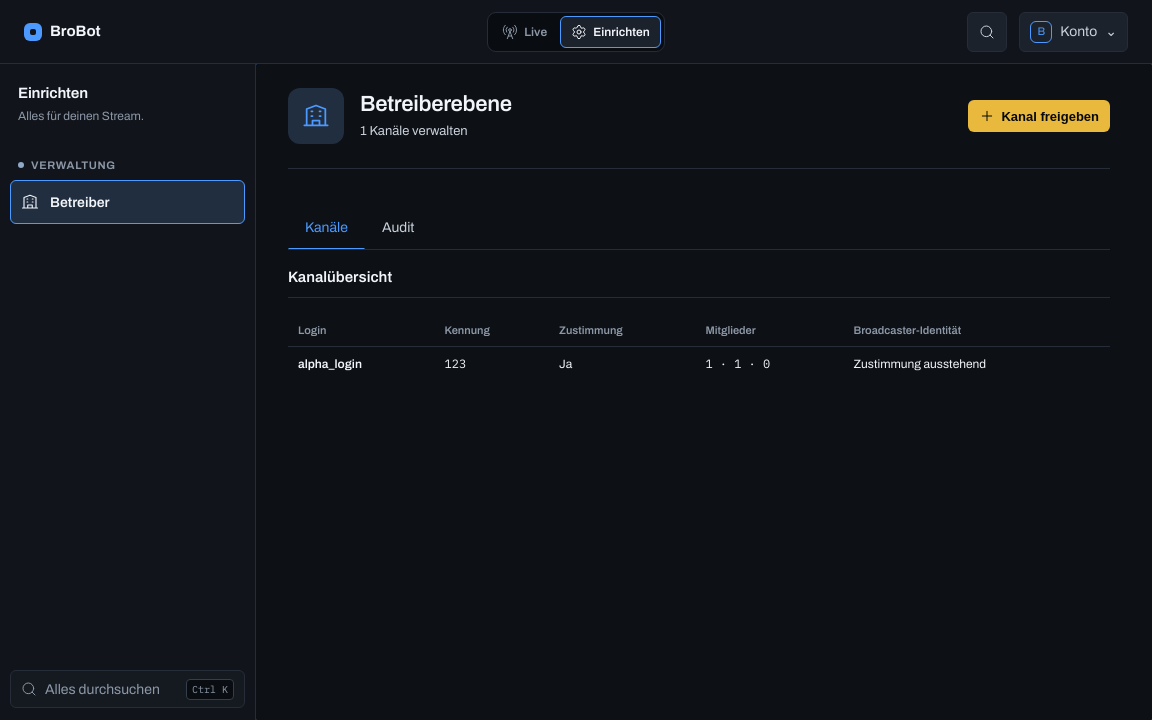
Test: Platform level › shows the display name in the platform audit log, falling back to the ID when it can't be resolved
The image size is (1152, 720).
Click the tab "Audit".
click(398, 227)  # box [365,205,432,249]
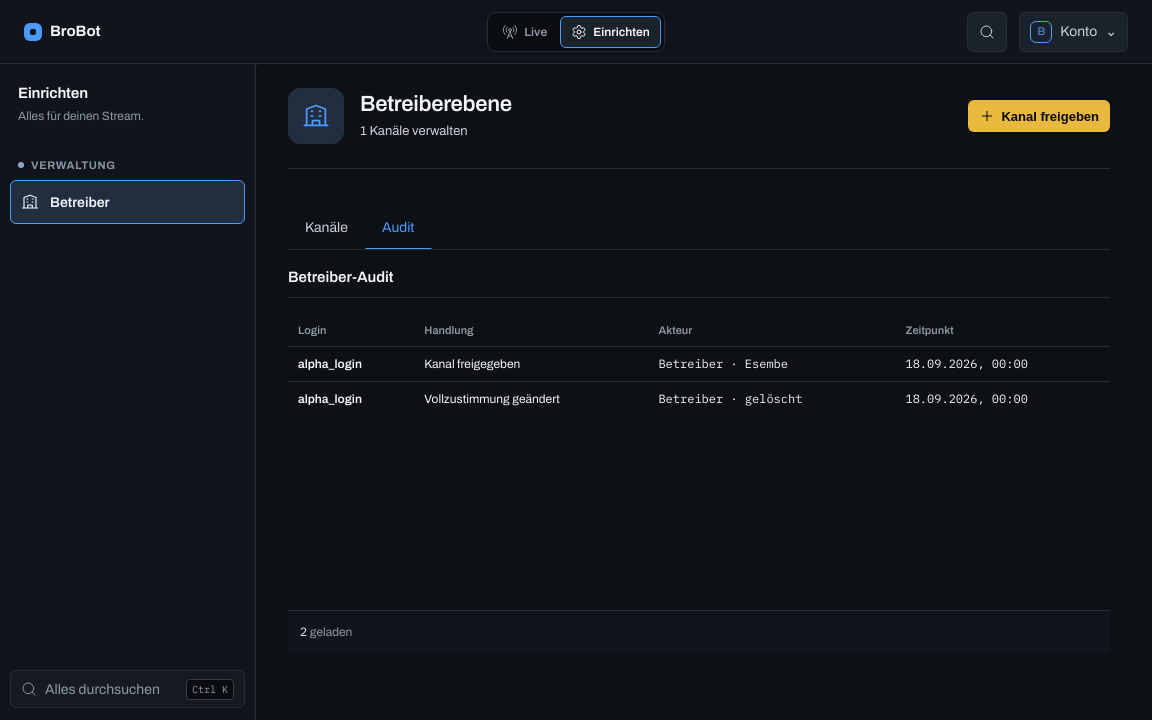
Expected: the text "Betreiber · Esembe" is shown, [648,346,896,382]
Expected: the text "Betreiber · gelöscht" is shown, [648,382,896,416]
